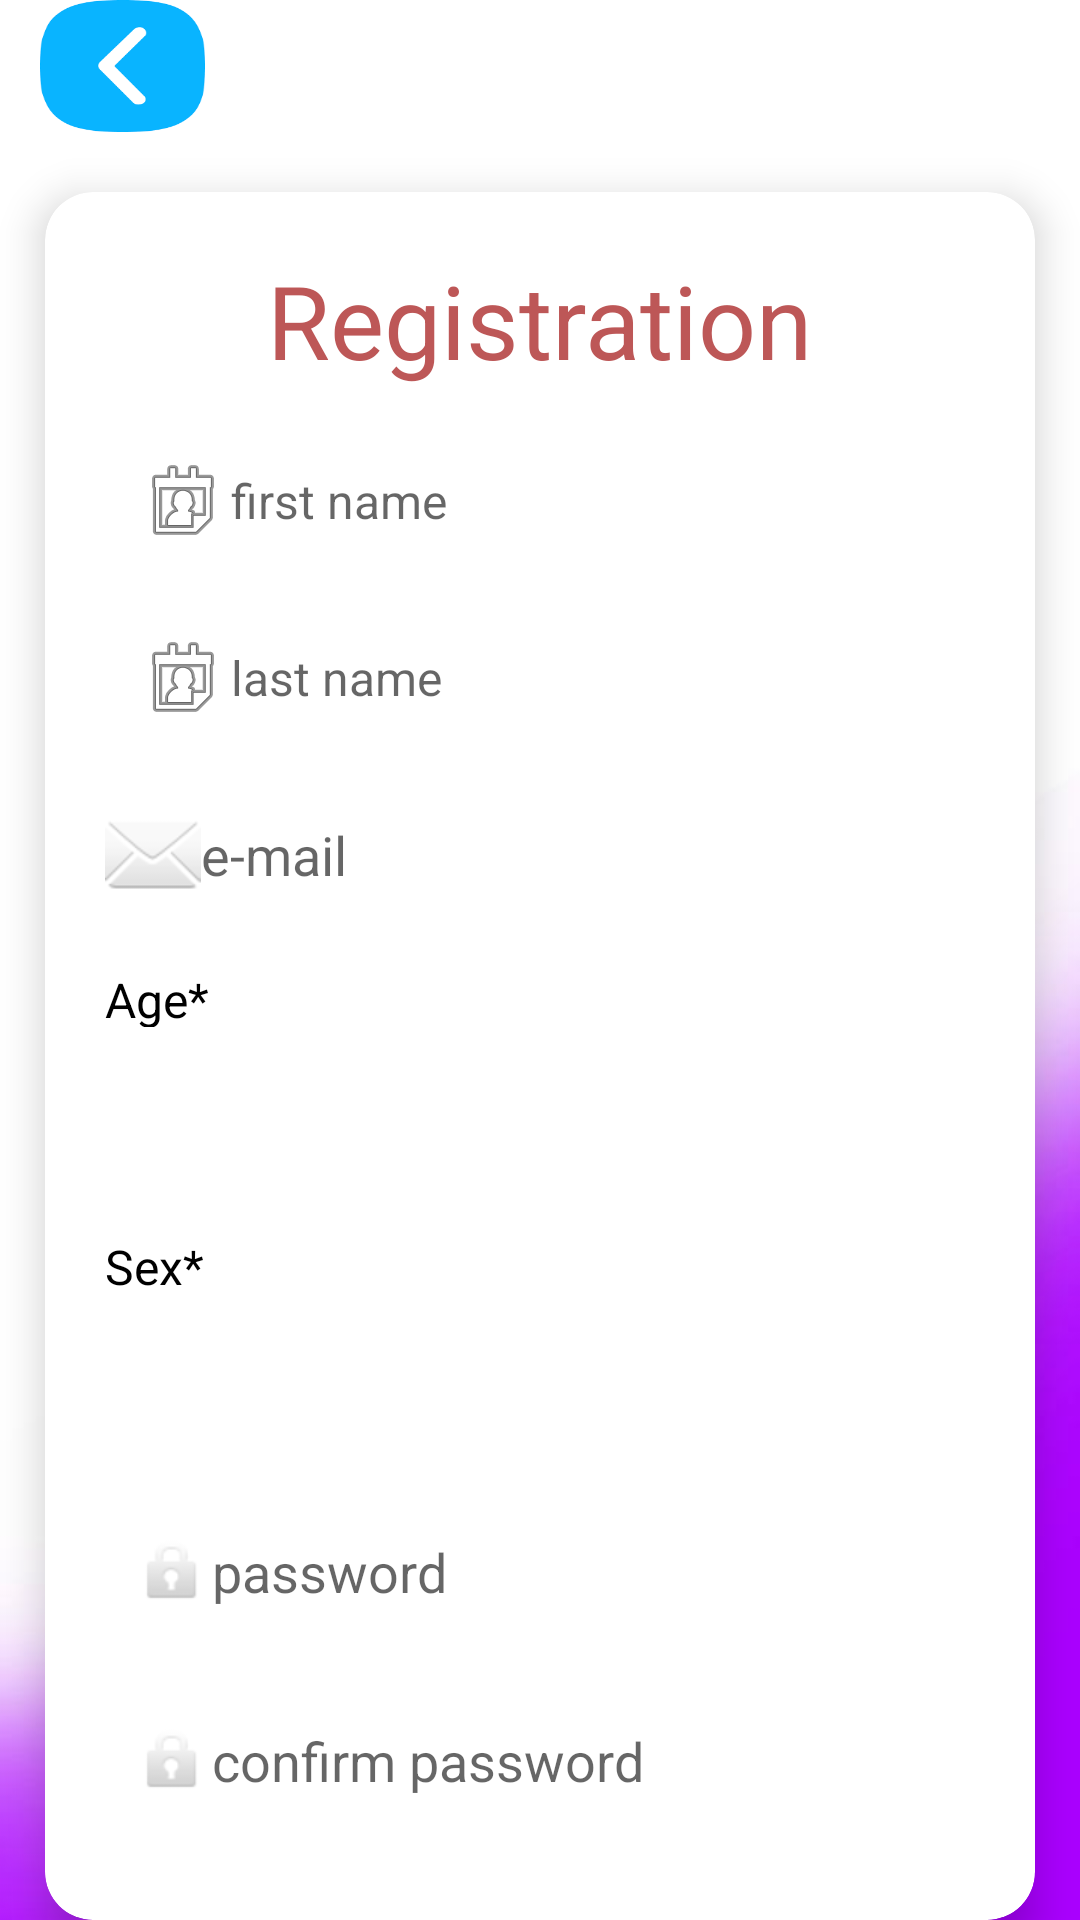

Where to tap for icons on this 1080 × 1920 app screen, as (x,y):
back: (122,66)
